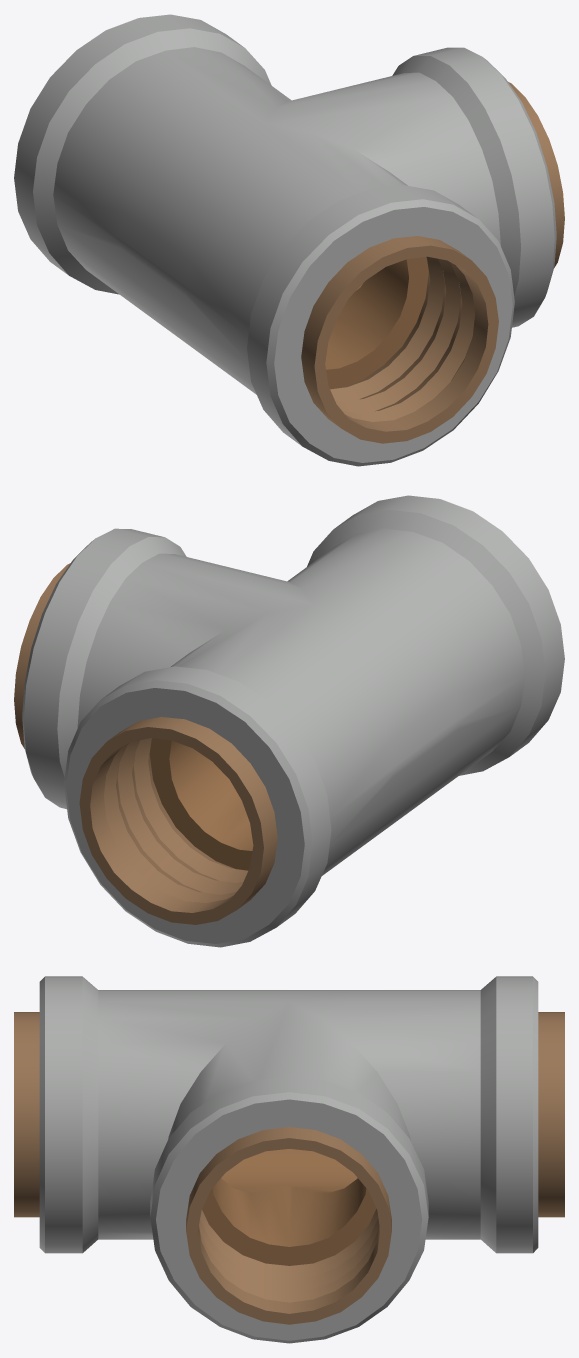
The model's file is pipes_supply__water_heater-garage_gas_tank+garage_hybrid_and_plumbing-galvanized.glb.
3 views of the same model, one above another, from view 1: azimuth 30°, elevation 25°; view 2: azimuth 150°, elevation 25°; view 3: azimuth 270°, elevation 25° (orthographic). The views are drawn at different scales.
Parts seen in each view (by area): view 1: fit_tee_pipe_supply_hot_wh_hybrid__galvanized; view 2: fit_tee_pipe_supply_hot_wh_hybrid__galvanized; view 3: fit_tee_pipe_supply_hot_wh_hybrid__galvanized.
Boxes of the visible parts, x1,y1,x2,y2 form: fit_tee_pipe_supply_hot_wh_hybrid__galvanized: [14, 14, 564, 466]; fit_tee_pipe_supply_hot_wh_hybrid__galvanized: [14, 495, 564, 947]; fit_tee_pipe_supply_hot_wh_hybrid__galvanized: [14, 976, 564, 1343].
Bounding box in the file's own units: 0.0553 × 0.037 × 0.0735.
